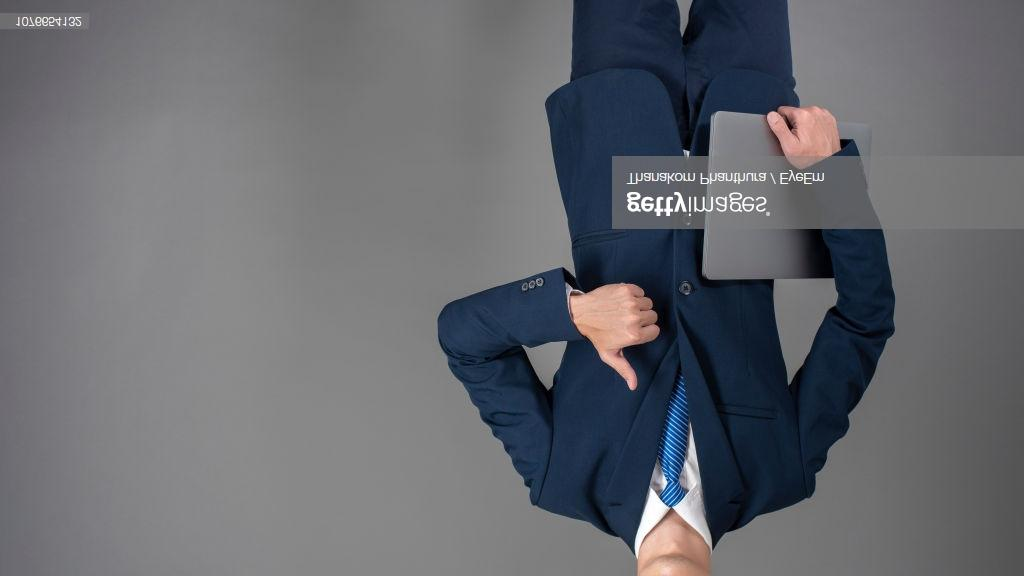thumbsdown: (600, 282, 661, 392)
